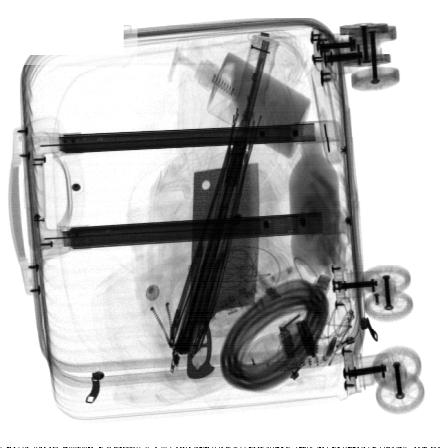Knife: (197, 266, 299, 322)
